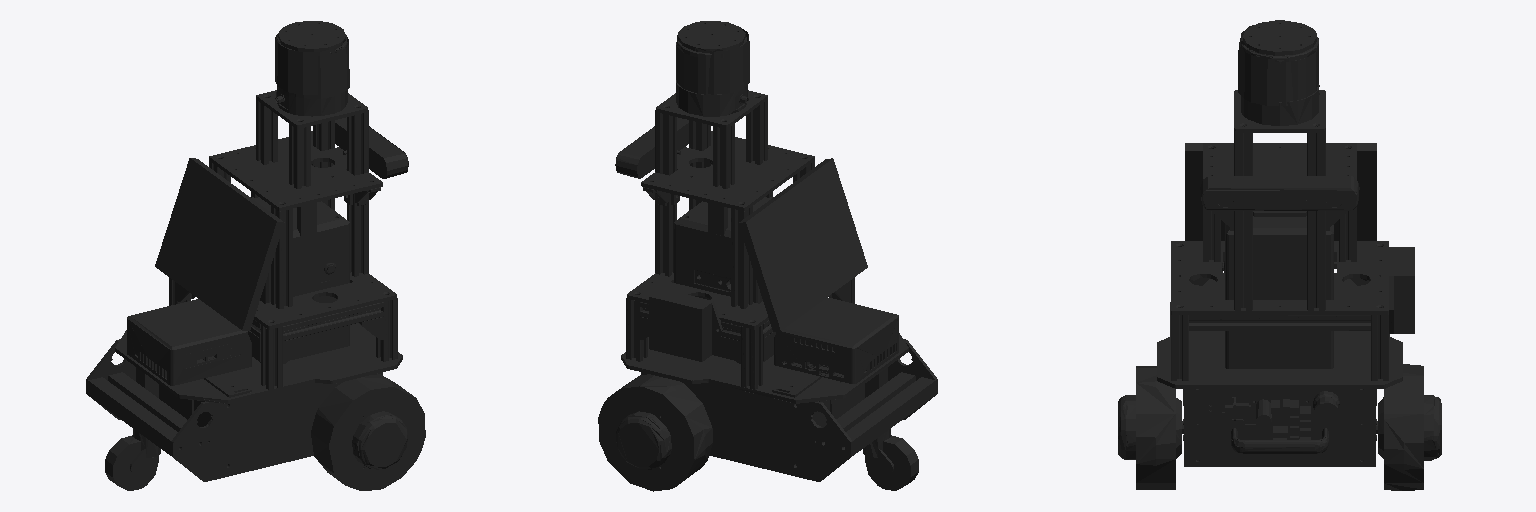
robot.urdf — megarover3:
<?xml version="1.0"?>
<robot name="megarover3">

    <!-- base_footprint -->
    <link name="base_footprint" />

    <!-- base_link -->
    <joint name="base_link_joint" type="fixed">
        <parent link="base_footprint" />
        <child link="base_link" />
        <origin xyz="0 0 0.07" rpy="0 0 0" />
    </joint>
    <link name="base_link">
        <visual>
            <origin xyz="0 0 0" rpy="0 0 0"/>
            <geometry>
                <mesh filename="package://description/meshes/megarover3/megarover3.stl"/>
            </geometry>
            <material name="black">
                <color rgba="0.2 0.2 0.2 1.0"/>
            </material>
        </visual>
    </link>

    <!-- lidar -->
    <joint name="lidar_joint" type="fixed">
        <parent link="base_link"/>
        <child link="lidar"/>
        <origin xyz="0 0 0.4432" rpy="0 0 1.57079632679" />
    </joint>
    <link name="lidar" />

    <!-- velodyne (lidar front) -->
    <joint name="velodyne_joint" type="fixed">
        <parent link="lidar"/>
        <child link="velodyne"/>
        <origin xyz="0 0 0" rpy="0 0 -1.57079632679" />
    </joint>
    <link name="velodyne" />

    <!-- camera left -->
    <joint name="camera_left_joint" type="fixed">
        <parent link="lidar"/>
        <child link="camera_left"/>
        <origin xyz="0.060949 -0.069430 -0.138706" rpy="-0.00224772 0.0252677 -1.5772" />
    </joint>
    <link name="camera_left" />

    <!-- camera left optical -->
    <joint name="camera_left_optical_joint" type="fixed">
        <parent link="camera_left"/>
        <child link="camera_left_optical"/>
        <origin xyz="0 0 0" rpy="-1.57079632679 0 -1.57079632679" />
    </joint>
    <link name="camera_left_optical" />

    <!-- camera right -->
    <joint name="camera_right_joint" type="fixed">
        <parent link="camera_left"/>
        <child link="camera_right"/>
        <origin xyz="0 -0.12 0" rpy="0 0 0" />
    </joint>
    <link name="camera_right" />

    <!-- camera right optical -->
    <joint name="camera_right_optical_joint" type="fixed">
        <parent link="camera_right"/>
        <child link="camera_right_optical"/>
        <origin xyz="0 0 0" rpy="-1.57079632679 0 -1.57079632679" />
    </joint>
    <link name="camera_right_optical" />

    <!-- imu -->
    <joint name="imu_joint" type="fixed">
        <parent link="camera_left"/>
        <child link="imu"/>
        <origin xyz="0 -0.023 0" rpy="0 0 0" />
    </joint>
    <link name="imu" />
</robot>

--- Render facts (derived) ---
The picture shows the robot from 3 angles, left to right: view 1: azimuth 30°, elevation 25°; view 2: azimuth 150°, elevation 25°; view 3: azimuth 270°, elevation 25°; orthographic projection.
Model megarover3 with 9 links and 8 joints (8 fixed), rooted at base_footprint, posed all joints at 0.
Links seen in each view (by area): view 1: base_link; view 2: base_link; view 3: base_link.
Boxes of the visible links, x1,y1,x2,y2 form: base_link: (86, 21, 425, 490); base_link: (598, 21, 937, 491); base_link: (1118, 20, 1441, 490).
Bounding box of the posed robot: 0.3678 × 0.3551 × 0.5432 m (x, y, z).
Meshes: 1 distinct files referenced, 1 mesh visuals loaded (1 binary STL).